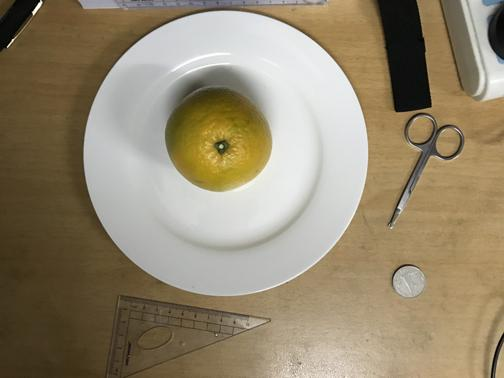coin: (394, 264, 427, 298)
orange: (165, 86, 273, 192)
